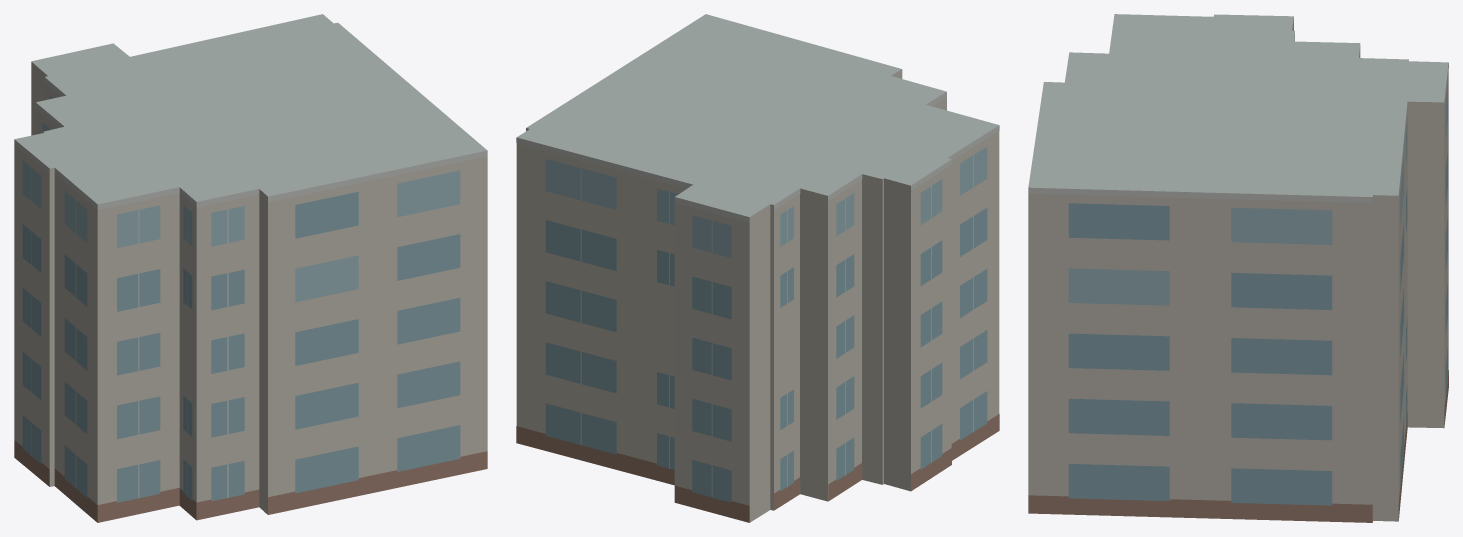
Rendered from survey-upis-32657075.glb.
3 views of the same model, side by side, from view 1: azimuth 30°, elevation 25°; view 2: azimuth 150°, elevation 25°; view 3: azimuth 270°, elevation 25° (orthographic). The views are drawn at different scales.
Parts seen in each view (by area): view 1: survey-upis-32657075.tmp; view 2: survey-upis-32657075.tmp; view 3: survey-upis-32657075.tmp.
Boxes of the visible parts, x1,y1,x2,y2 form: survey-upis-32657075.tmp: (14,14,487,522); survey-upis-32657075.tmp: (516,14,999,522); survey-upis-32657075.tmp: (1028,14,1448,522).
Bounding box in the file's own units: 16.28 × 13.5 × 15.8.
